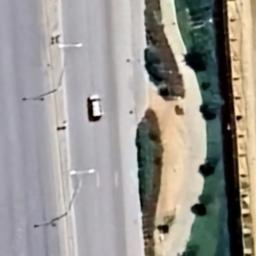van: (84, 93, 106, 123)
